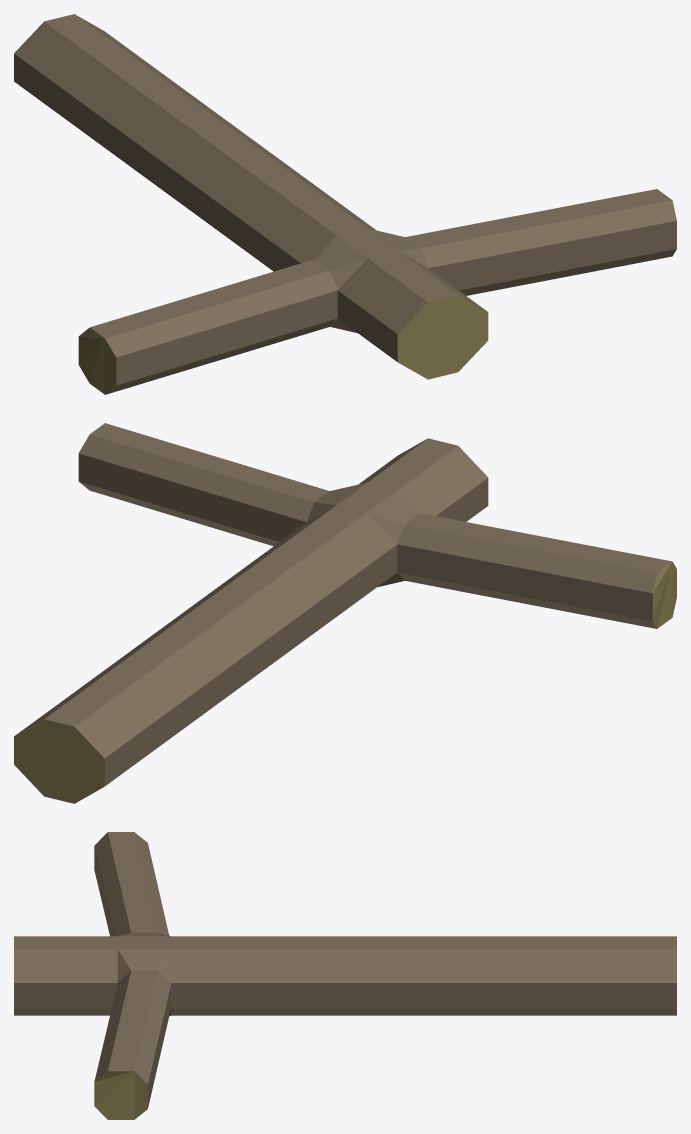
File: obj_trimmed_yommi_0.obj
The picture shows the model from 3 angles, top to bottom: view 1: azimuth 30°, elevation 25°; view 2: azimuth 150°, elevation 25°; view 3: azimuth 270°, elevation 25°; orthographic projection. The views are drawn at different scales.
Size of the model in its own units: 1.34 by 0.1719 by 1.55.
